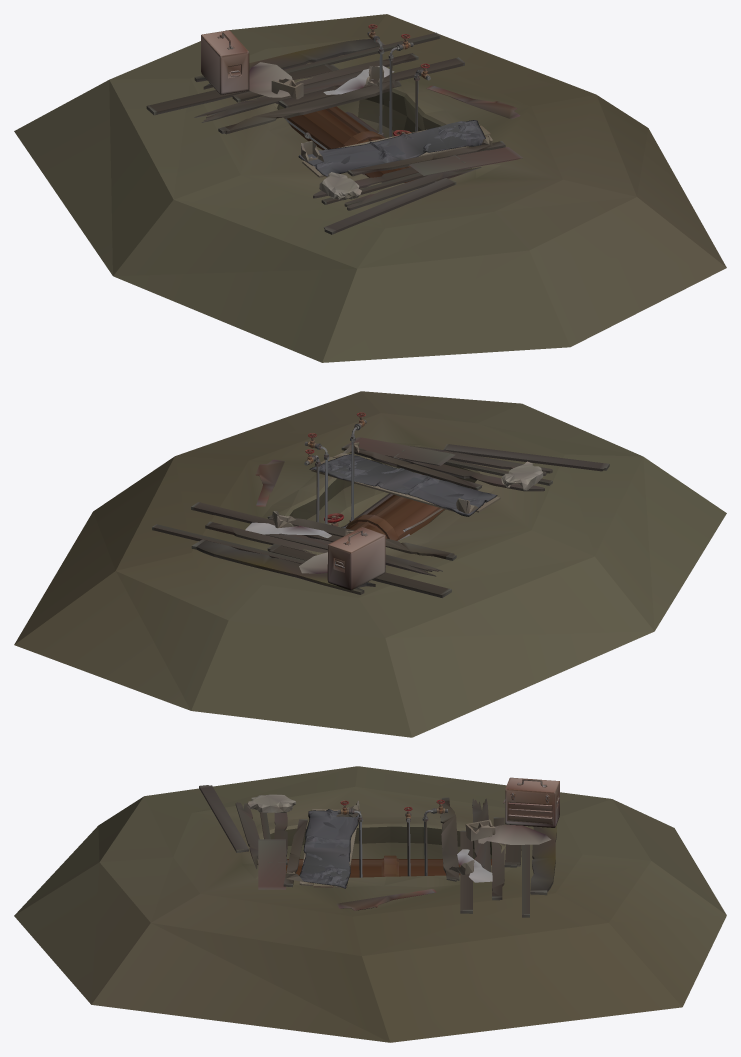
File: watertreatment-pipe-access-point-6e3b8f8c-near-textured-map-far.glb
3 views of the same model, one above another, from view 1: azimuth 30°, elevation 25°; view 2: azimuth 150°, elevation 25°; view 3: azimuth 270°, elevation 25° (orthographic). The views are drawn at different scales.
Visible parts, largest first — view 1: 9, 2, 0, 1, 7, 12; view 2: 9, 2, 0, 1, 7, 12; view 3: 9, 2, 0, 1, 12, 7.
Boxes of the visible parts, <box> form: 9: <box>14,14,726,362</box>; 2: <box>146,30,505,234</box>; 0: <box>271,66,492,200</box>; 1: <box>249,24,430,176</box>; 7: <box>287,106,415,182</box>; 12: <box>409,85,522,175</box>; 9: <box>14,391,726,737</box>; 2: <box>152,444,609,597</box>; 0: <box>272,442,543,536</box>; 1: <box>245,412,442,573</box>; 7: <box>345,474,444,540</box>; 12: <box>255,437,455,506</box>; 9: <box>14,766,726,1042</box>; 2: <box>199,777,559,917</box>; 0: <box>247,794,495,888</box>; 1: <box>337,799,551,882</box>; 12: <box>258,839,436,910</box>; 7: <box>286,855,491,877</box>.
Size of the model in its own units: 9.3 by 2.3 by 11.32.
